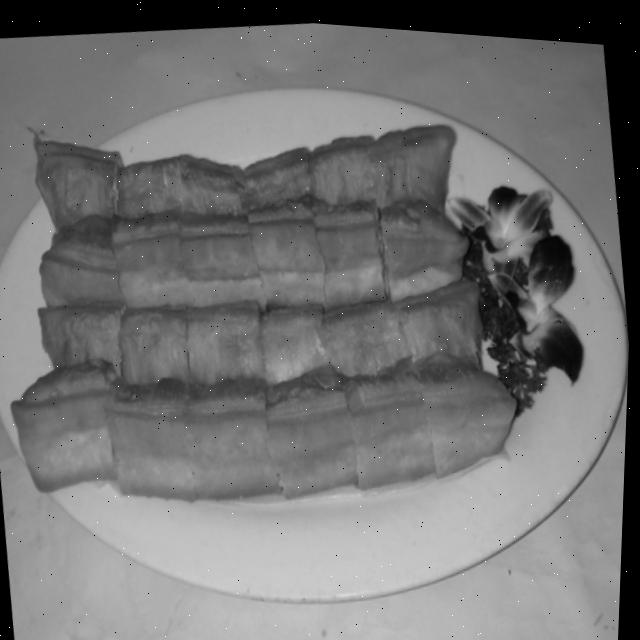炸货点心: (0, 19, 603, 601)
